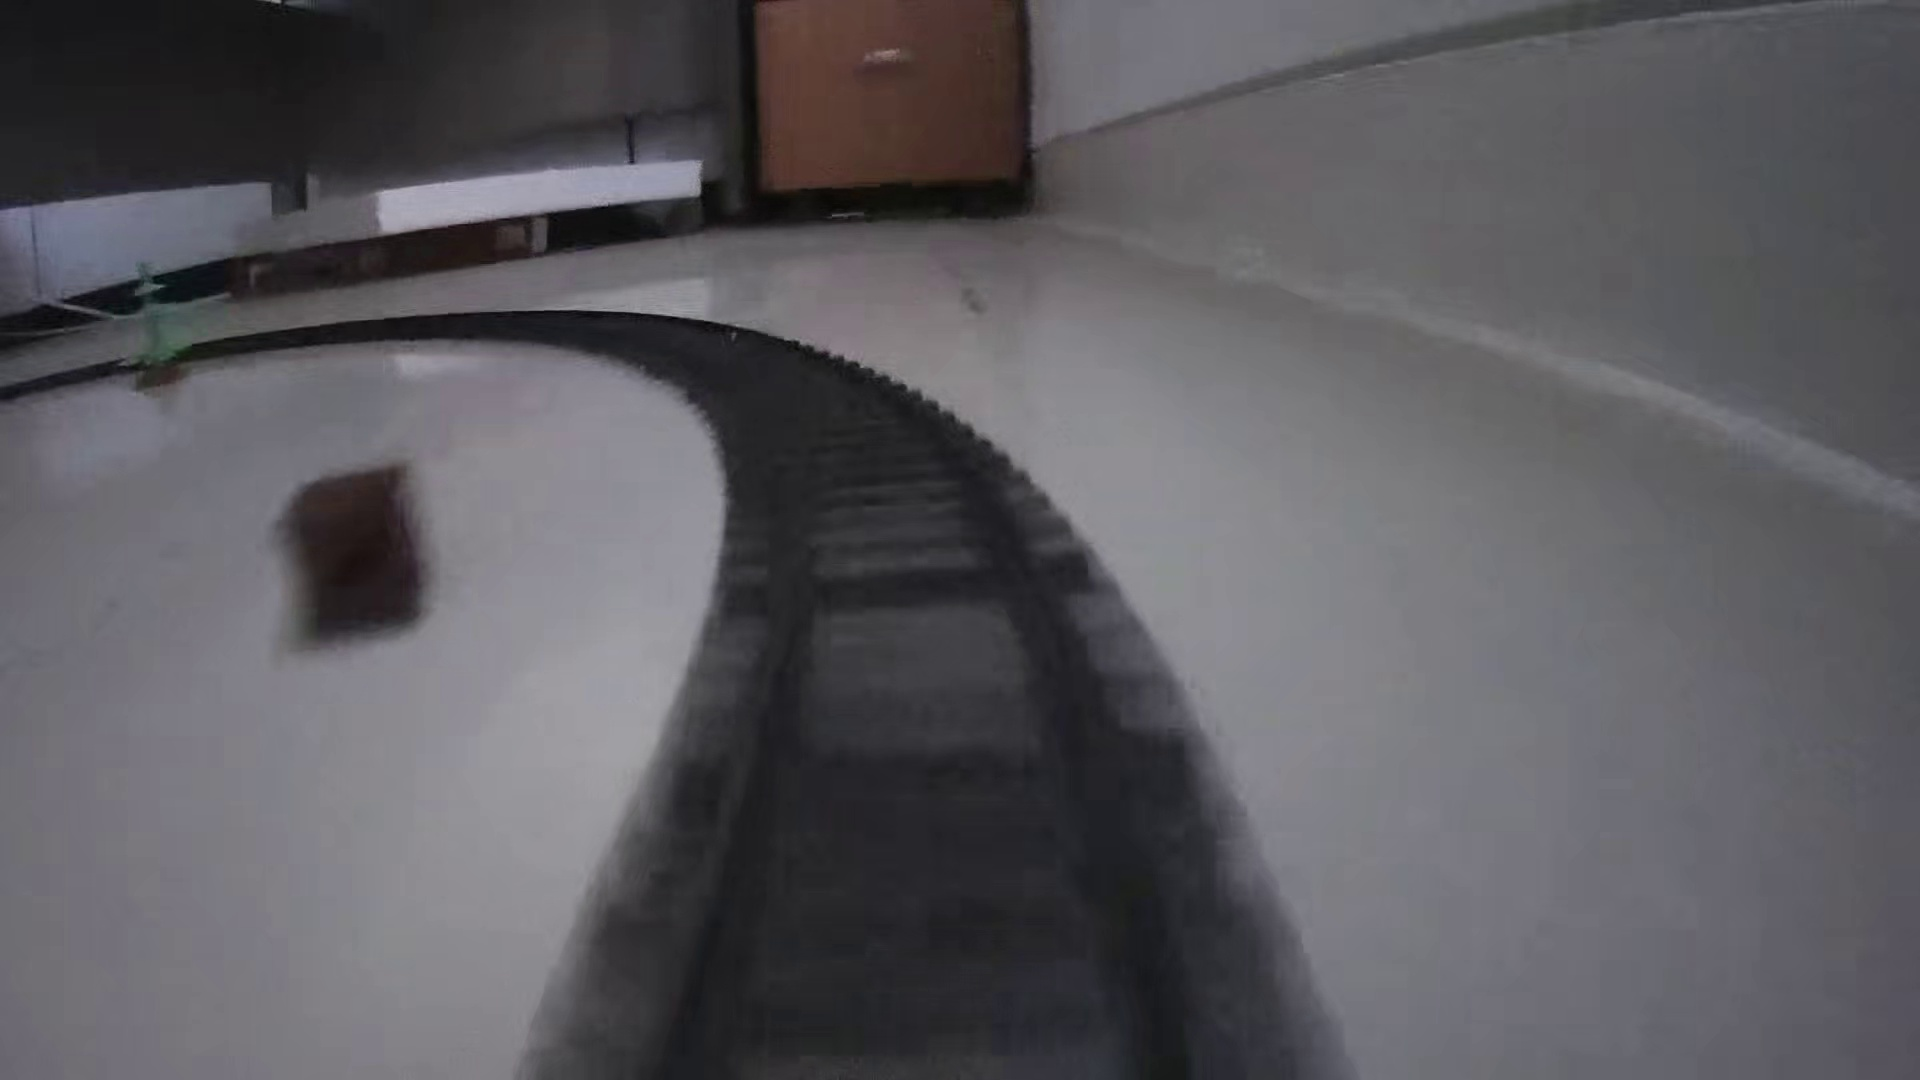box: (259, 461, 439, 654)
tree: (109, 255, 195, 394)
